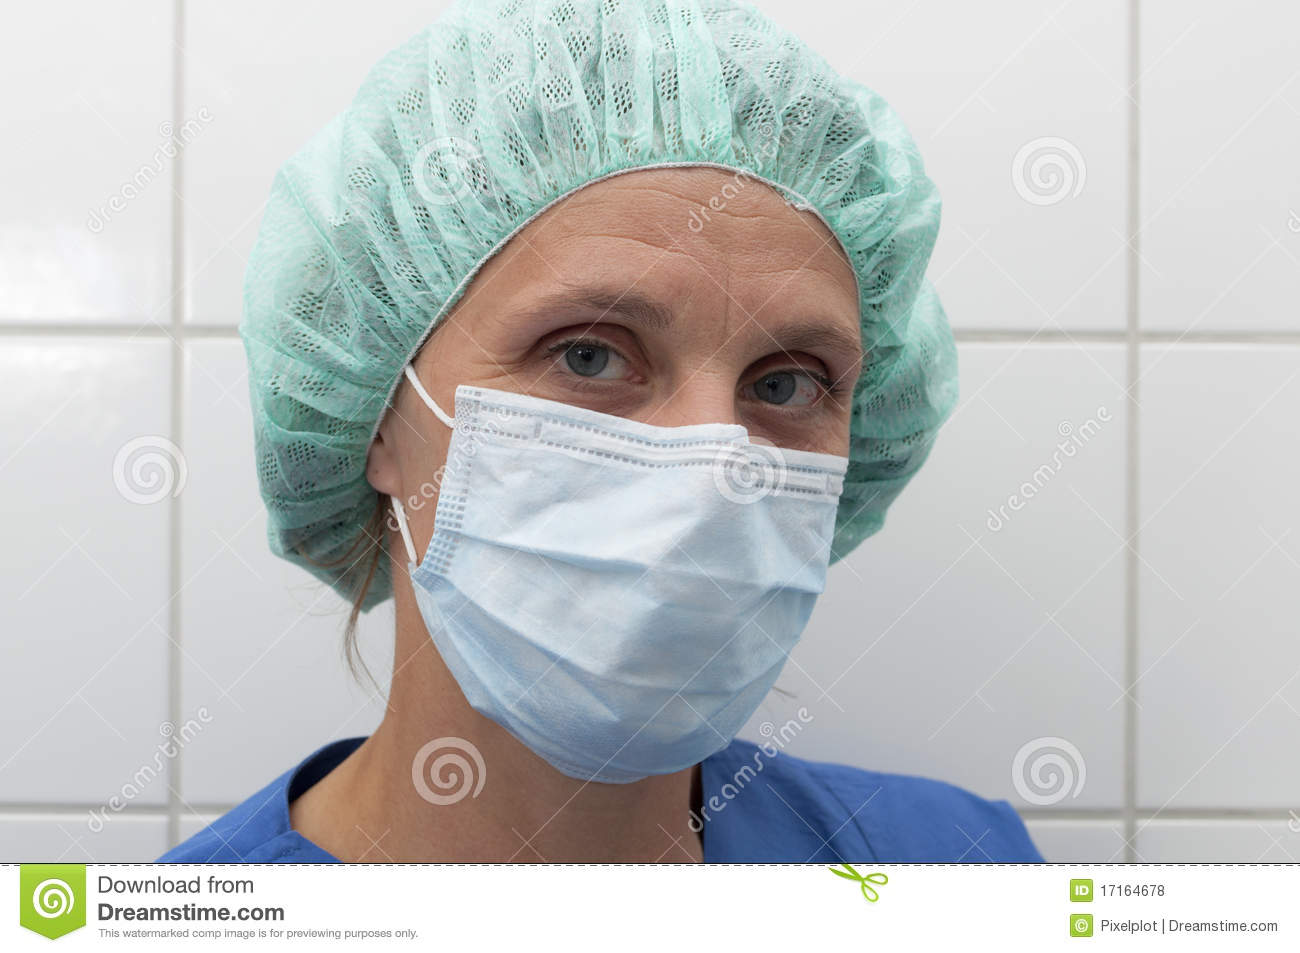mask: (429, 402, 832, 774)
